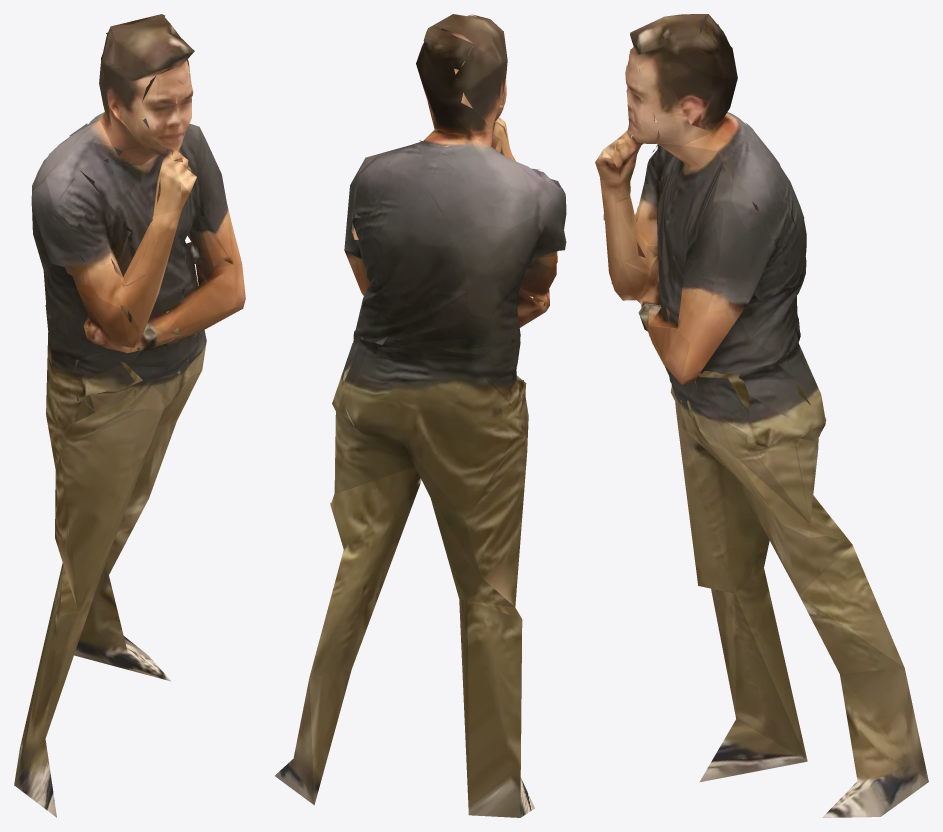
The model's file is person_scan.glb.
The picture shows the model from 3 angles, left to right: view 1: azimuth 30°, elevation 25°; view 2: azimuth 150°, elevation 25°; view 3: azimuth 270°, elevation 25°; orthographic projection. The views are drawn at different scales.
Parts seen in each view (by area): view 1: Object_2; view 2: Object_2; view 3: Object_2.
Part boxes in pixels (bbox=[...]): Object_2: bbox=[14, 14, 245, 817]; Object_2: bbox=[275, 14, 566, 817]; Object_2: bbox=[595, 14, 928, 817].
Bounding box in the file's own units: 0.4792 × 1.77 × 0.6671.
1 material, 1 textured.
